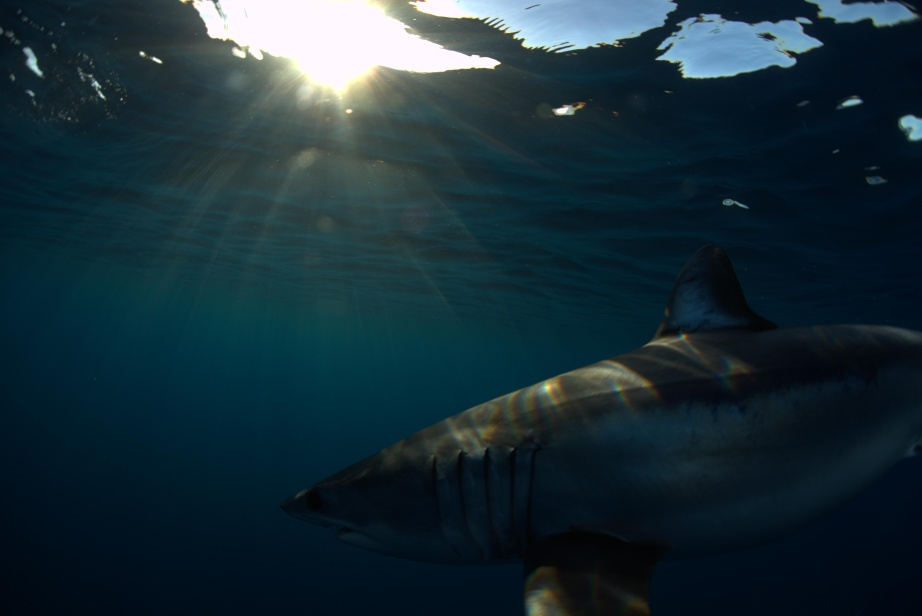Mako: (257, 235, 920, 616)
